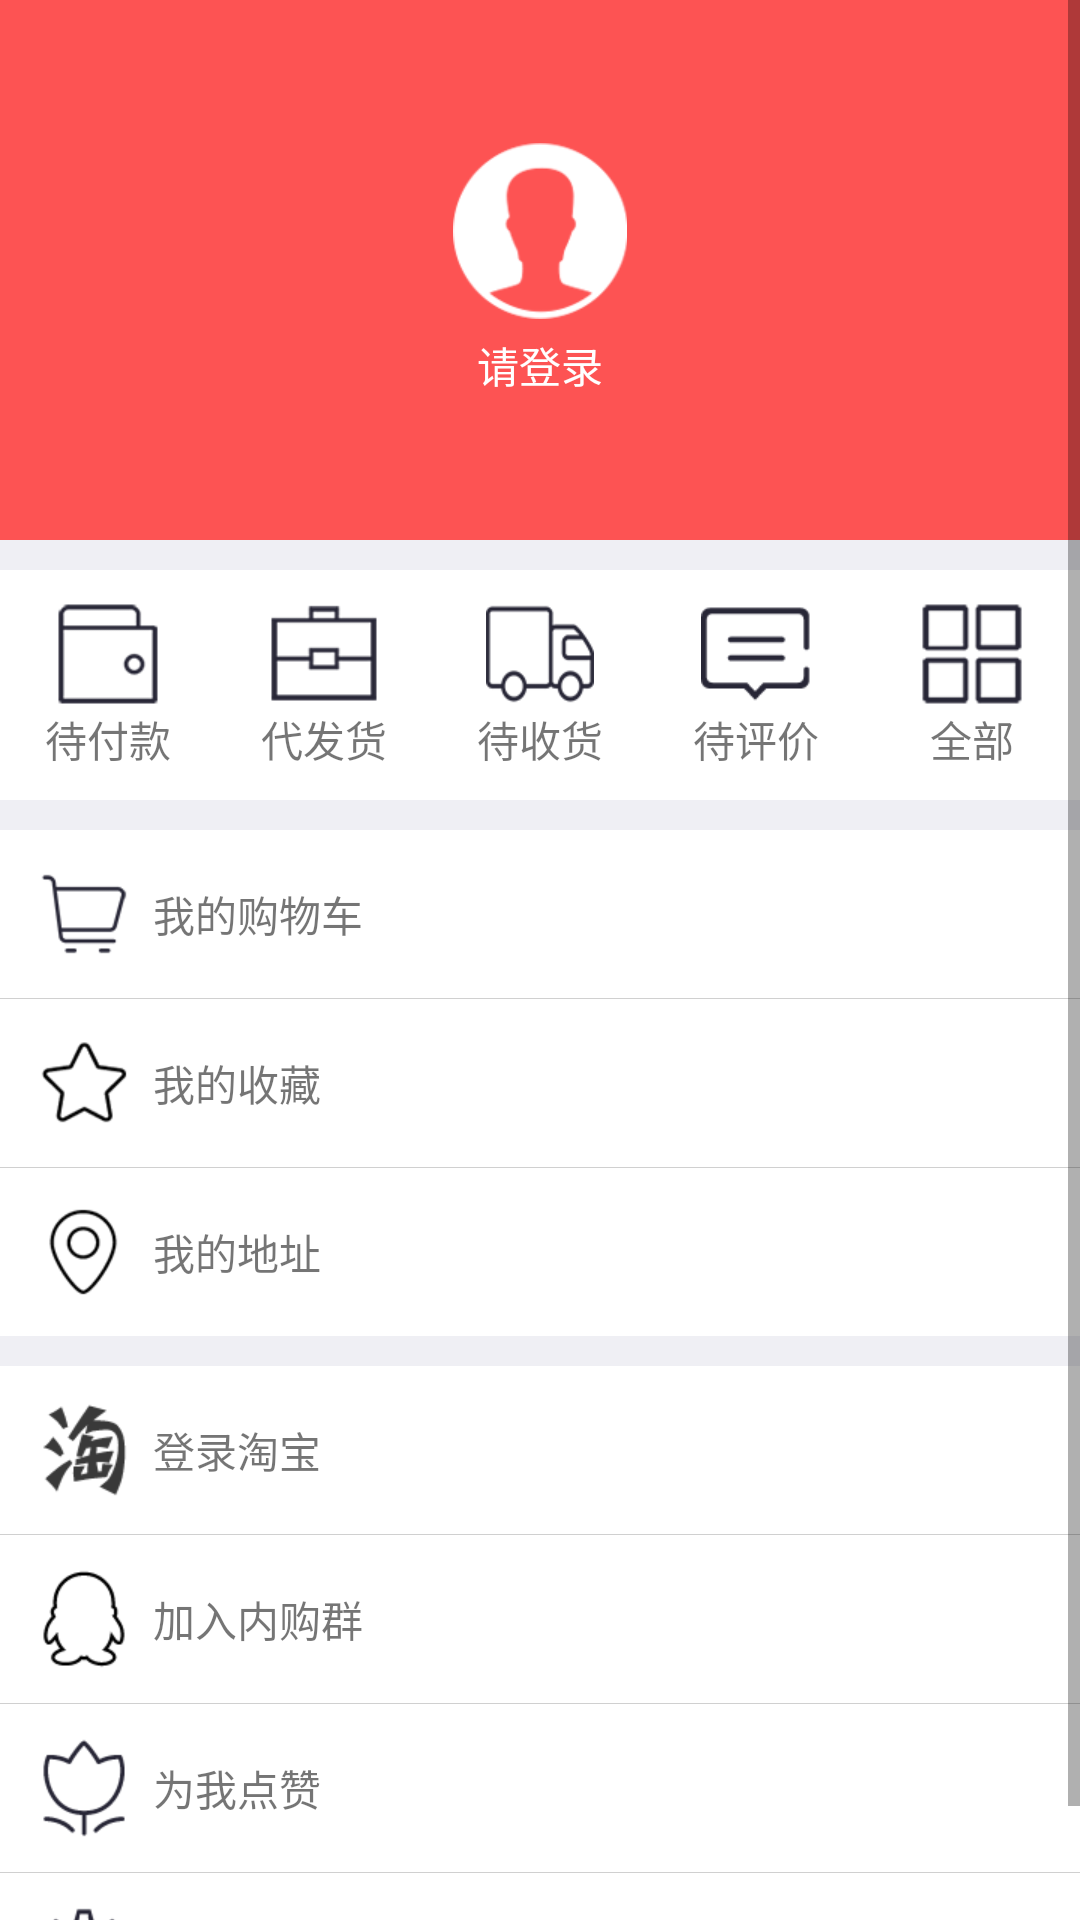

Icons on this 1080×1920 Android screen, each with the point to tap as point (x, y):
personal head portrait: point (540, 231)
